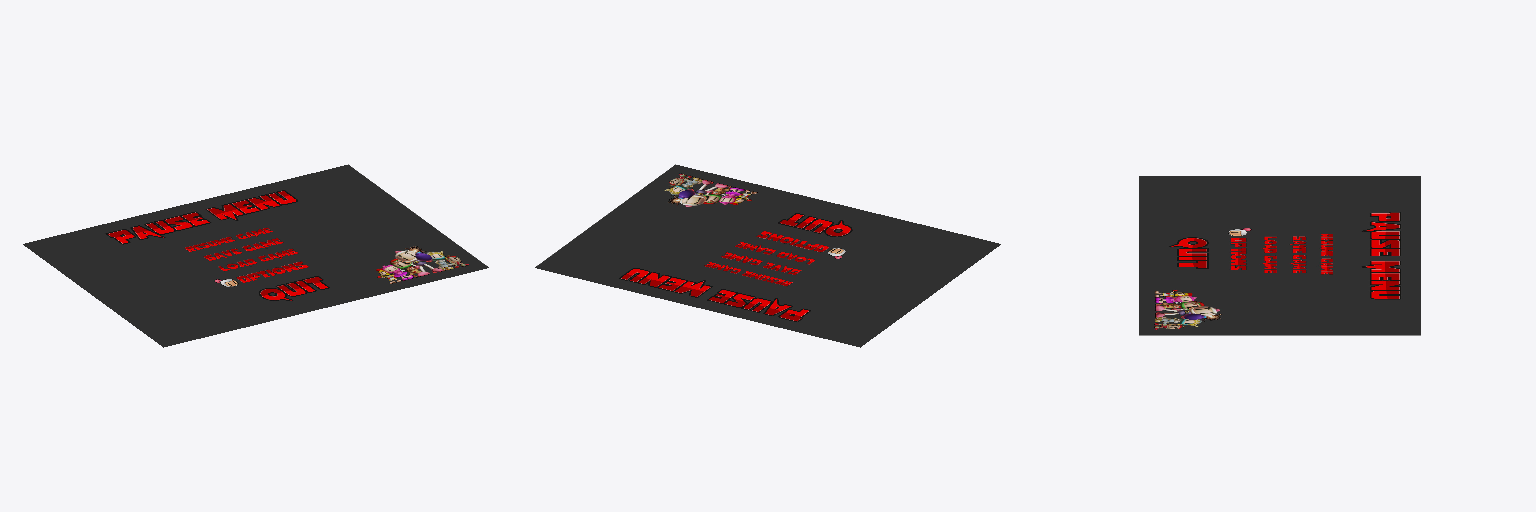
3 renders of one model, left to right at view 1: azimuth 30°, elevation 25°; view 2: azimuth 150°, elevation 25°; view 3: azimuth 270°, elevation 25°, orthographic.
Visible parts, largest first — view 1: Plane; view 2: Plane; view 3: Plane.
Boxes of the visible parts, x1,y1,x2,y2 form: Plane: [23, 164, 488, 347]; Plane: [535, 164, 1000, 347]; Plane: [1139, 176, 1420, 335].
Size of the model in its own units: 16 by 0 by 12.
Materials: 1 (1 with a texture image).